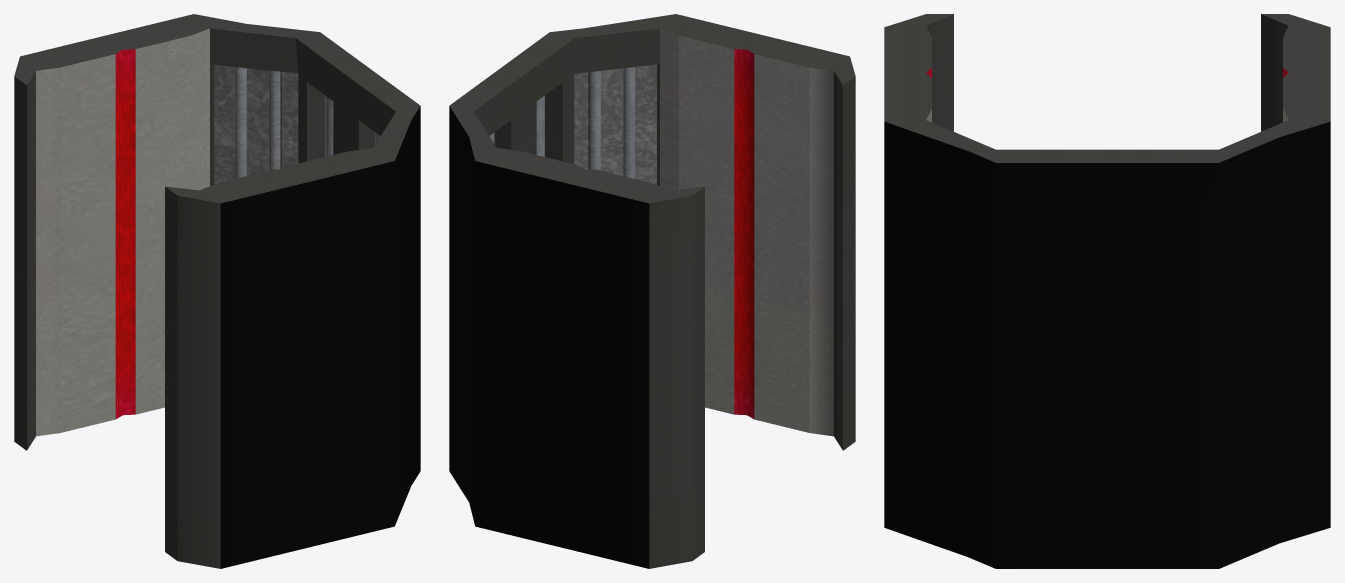
The model's file is StraightTunnel.fbx.
The picture shows the model from 3 angles, left to right: view 1: azimuth 30°, elevation 25°; view 2: azimuth 150°, elevation 25°; view 3: azimuth 270°, elevation 25°; orthographic projection. The views are drawn at different scales.
Parts seen in each view (by area): view 1: StraightTunnel; view 2: StraightTunnel; view 3: StraightTunnel.
Boxes of the visible parts, left/top/right/bottom form: StraightTunnel: left=14, top=14, right=420, bottom=568; StraightTunnel: left=449, top=14, right=855, bottom=568; StraightTunnel: left=884, top=14, right=1330, bottom=568.
Size of the model in its own units: 12.63 by 16.07 by 16.
1 material, 1 textured.
